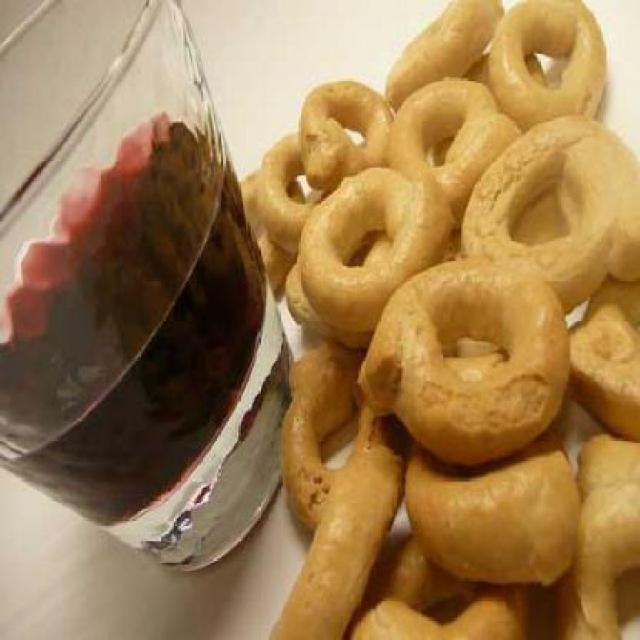Taralli: (253, 1, 639, 638)
